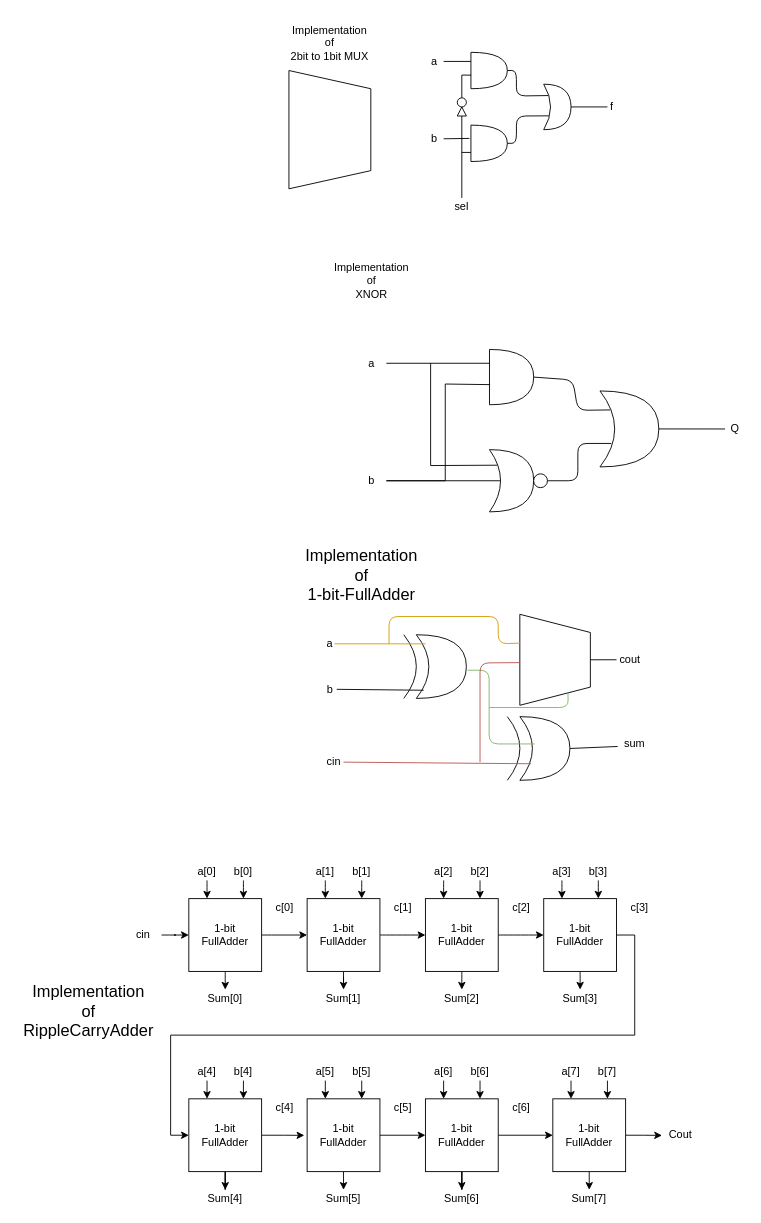
Some shapes in this 761 by 1223 pixel diagram are drawn without their labels. Here are the shapes that lost their labels. From the top down, the centre of each, then its label:
At point 329,129: "2bit to 1bit MUX".
At point 554,659: "2bit to 1bit MUX 1 0".
